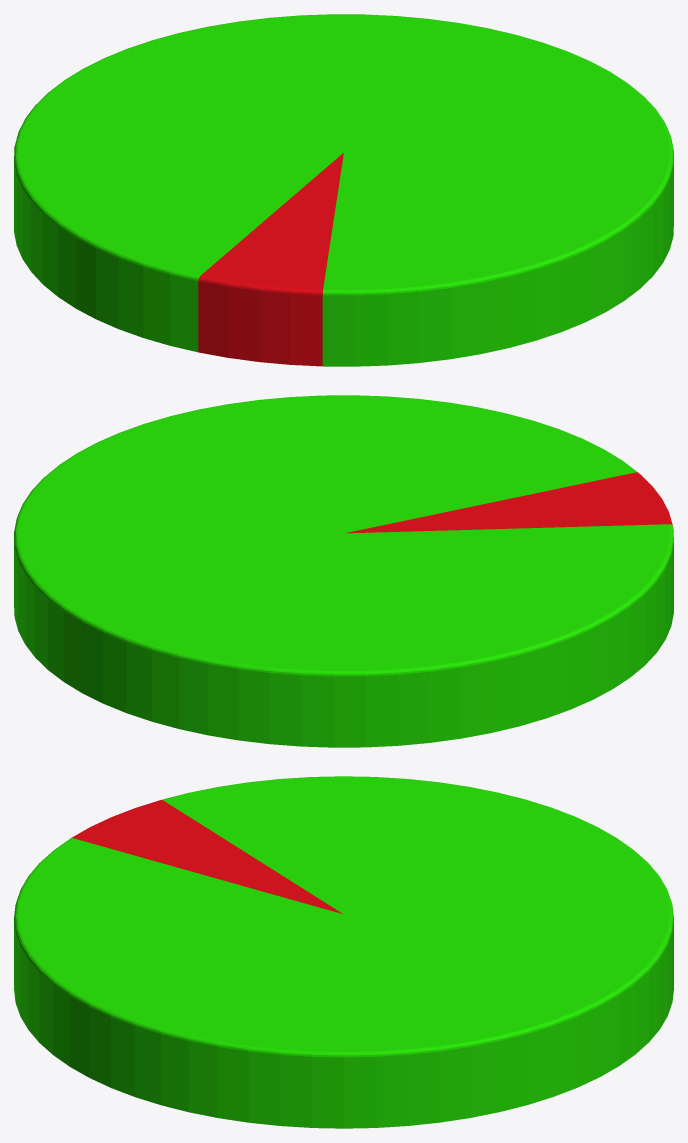
The model's file is Adm_Chart.glb.
3 views of the same model, one above another, from view 1: azimuth 30°, elevation 25°; view 2: azimuth 150°, elevation 25°; view 3: azimuth 270°, elevation 25° (orthographic).
Visible parts, largest first — view 1: wedge.38, wedge.37, wedge.39, wedge.36, wedge.40, wedge.35, wedge.34, wedge.41, wedge.33, wedge.42, wedge.43, wedge.32 (+52 smaller); view 2: wedge.59, wedge.60, wedge.61, wedge.58, wedge.57, wedge.62, wedge.56, wedge.55, wedge.63, wedge.64, wedge.54, wedge.53 (+52 smaller); view 3: wedge.17, wedge.15, wedge.14, wedge.16, wedge.19, wedge.18, wedge.20, wedge.13, wedge.21, wedge.12, wedge.11, wedge.22 (+52 smaller).
Boxes of the visible parts, x1,y1,x2,y2 form: wedge.38: [322, 154, 355, 366]; wedge.37: [344, 153, 387, 366]; wedge.39: [290, 153, 343, 366]; wedge.36: [344, 153, 419, 365]; wedge.40: [259, 153, 343, 364]; wedge.35: [344, 153, 450, 362]; wedge.34: [345, 153, 480, 358]; wedge.41: [228, 153, 343, 361]; wedge.33: [345, 153, 509, 353]; wedge.42: [198, 153, 342, 357]; wedge.43: [170, 153, 342, 352]; wedge.32: [345, 153, 536, 347]; wedge.59: [333, 534, 365, 747]; wedge.60: [301, 534, 343, 747]; wedge.61: [269, 534, 343, 746]; wedge.58: [344, 534, 398, 747]; wedge.57: [344, 534, 429, 745]; wedge.62: [238, 534, 343, 743]; wedge.56: [344, 534, 460, 742]; wedge.55: [345, 534, 490, 738]; wedge.63: [208, 535, 342, 740]; wedge.64: [179, 534, 342, 735]; wedge.54: [345, 534, 518, 733]; wedge.53: [345, 534, 545, 726]; wedge.17: [312, 915, 344, 1128]; wedge.15: [344, 916, 408, 1127]; wedge.14: [344, 915, 440, 1125]; wedge.16: [344, 915, 376, 1128]; wedge.19: [248, 915, 343, 1125]; wedge.18: [280, 915, 343, 1127]; wedge.20: [218, 916, 342, 1122]; wedge.13: [345, 916, 470, 1122]; wedge.21: [188, 915, 342, 1117]; wedge.12: [345, 915, 499, 1117]; wedge.11: [345, 915, 527, 1111]; wedge.22: [161, 915, 342, 1111].
Size of what is drawn, in the model's own units: 2 by 0.2501 by 2.
